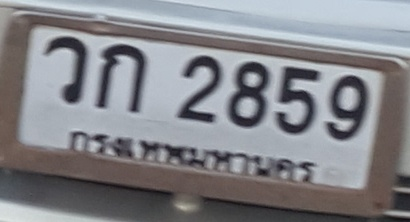txt01: (92, 42, 147, 115)
txt32: (40, 34, 88, 105)
